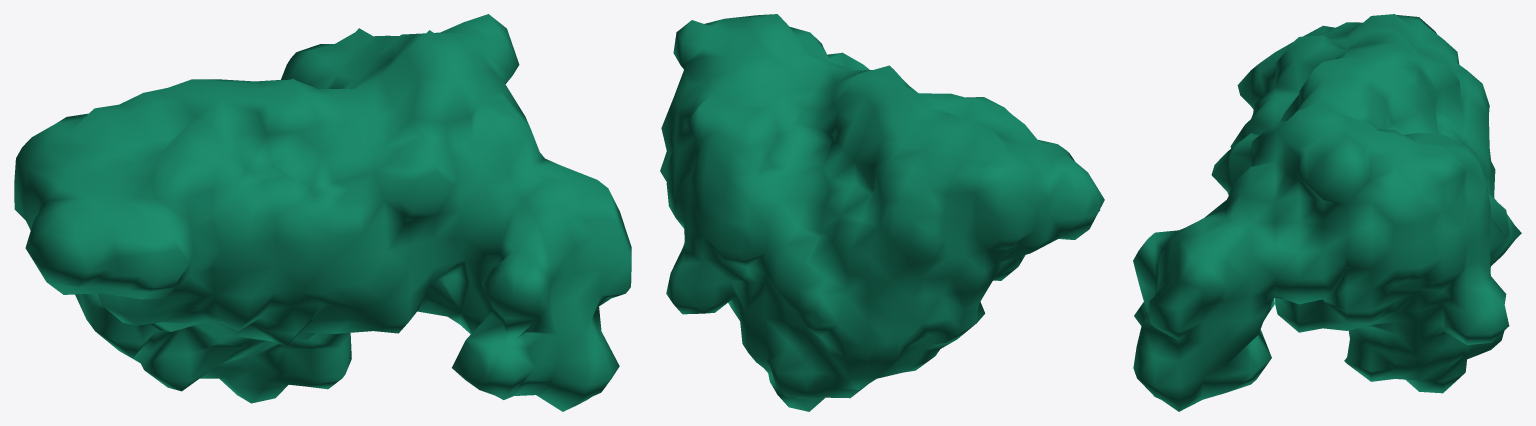
Rendered from 2BUK_monomer.glb.
3 views of the same model, side by side, from view 1: azimuth 30°, elevation 25°; view 2: azimuth 150°, elevation 25°; view 3: azimuth 270°, elevation 25° (orthographic). The views are drawn at different scales.
Bounding box in the file's own units: 63.44 × 45.53 × 48.59.
